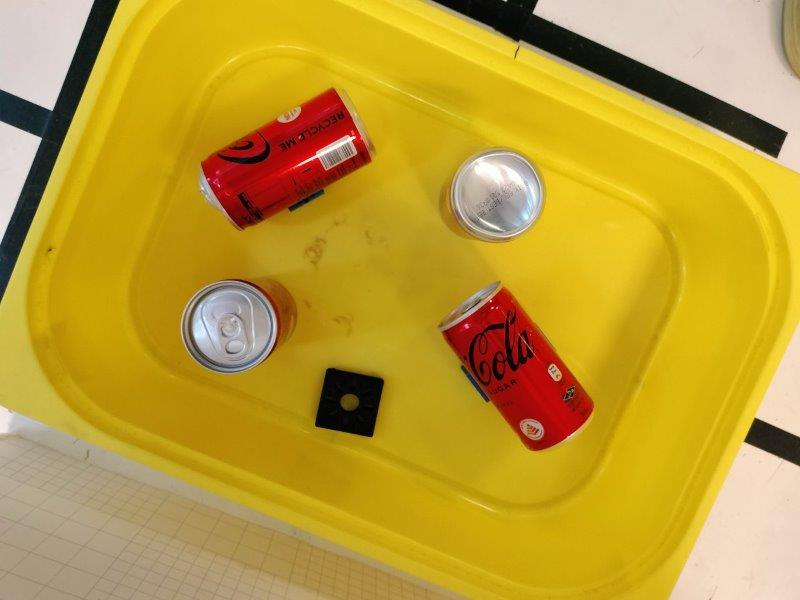Coke: (438, 280, 596, 451), (199, 87, 378, 232), (179, 278, 297, 374), (440, 148, 549, 245)
